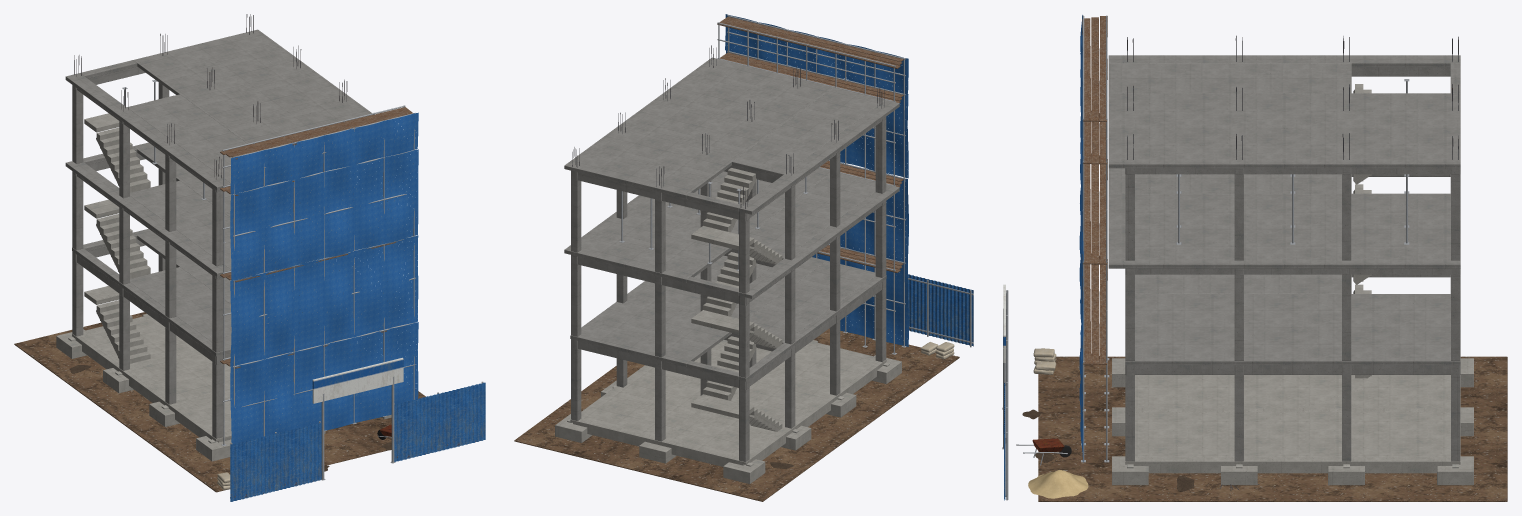
Rendered from phase-2.glb.
3 renders of one model, left to right at view 1: azimuth 30°, elevation 25°; view 2: azimuth 150°, elevation 25°; view 3: azimuth 270°, elevation 25°, orthographic. The views are drawn at different scales.
Visible parts, largest first — view 1: Slab_4, Temp_SafetyNet_3, Temp_SafetyNet_2, Temp_SafetyNet_1, Ground_1, Slab_3, Temp_SafetyNet_4, Slab_2, Slab_1, Temp_Hoarding_1, Temp_Hoarding_2, Temp_SiteBoard_1 (+20 smaller); view 2: Slab_4, Slab_3, Ground_1, Slab_2, Slab_1, Temp_SafetyNet_4, Temp_Hoarding_1, Temp_SafetyNet_1, Stair_3, Temp_SafetyNet_3, Stair_2, Temp_SafetyNet_2 (+33 smaller); view 3: Slab_4, Slab_3, Slab_2, Slab_1, Ground_1, GroundBeam_3, Beam_3, Temp_Planks_4, Temp_Planks_1, Temp_Planks_2, Beam_10, Beam_17 (+25 smaller).
Boxes of the visible parts, x1,y1,x2,y2 form: Slab_4: (65,29,381,190); Temp_SafetyNet_3: (230,149,418,281); Temp_SafetyNet_2: (230,235,418,366); Temp_SafetyNet_1: (230,322,418,444); Ground_1: (14,312,425,492); Slab_3: (65,142,381,276); Temp_SafetyNet_4: (230,112,418,194); Slab_2: (72,229,361,356); Slab_1: (72,316,369,441); Temp_Hoarding_1: (230,421,321,501); Temp_Hoarding_2: (394,381,485,461); Temp_SiteBoard_1: (312,357,403,403); Slab_4: (564,57,899,214); Slab_3: (564,168,899,298); Ground_1: (514,328,959,501); Slab_2: (570,255,886,381); Slab_1: (570,340,886,464); Temp_SafetyNet_4: (725,14,908,94); Temp_Hoarding_1: (908,274,973,347); Temp_SafetyNet_1: (812,253,908,346); Stair_3: (691,168,782,264); Temp_SafetyNet_3: (726,50,908,178); Stair_2: (691,252,782,348); Temp_SafetyNet_2: (840,162,908,263); Slab_4: (1108,55,1460,168); Slab_3: (1108,168,1460,268); Slab_2: (1125,274,1460,365); Slab_1: (1125,375,1460,464); Ground_1: (1038,356,1507,501); GroundBeam_3: (1129,457,1456,473); Beam_3: (1125,365,1460,374); Temp_Planks_4: (1082,16,1107,121); Temp_Planks_1: (1083,259,1107,364); Temp_Planks_2: (1083,159,1107,264); Beam_10: (1125,268,1460,274); Beam_17: (1125,168,1460,174).
Size of the model in its own units: 10.2 by 11.94 by 15.07.
14 materials, 14 textured.
